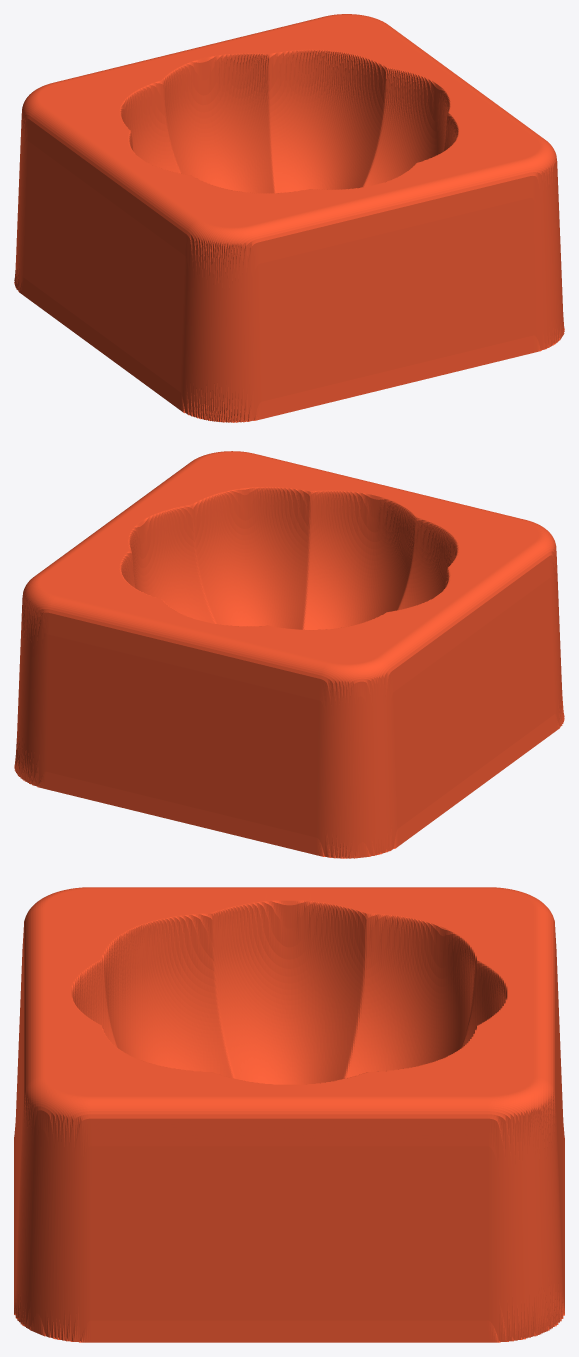
Rendered from mold.glb.
3 renders of one model, top to bottom at view 1: azimuth 30°, elevation 25°; view 2: azimuth 150°, elevation 25°; view 3: azimuth 270°, elevation 25°, orthographic. The views are drawn at different scales.
Visible parts, largest first — view 1: geometry_0; view 2: geometry_0; view 3: geometry_0.
Boxes of the visible parts, x1,y1,x2,y2 form: geometry_0: [14, 14, 564, 422]; geometry_0: [14, 451, 564, 858]; geometry_0: [14, 887, 564, 1342].
Size of the model in its own units: 0.065 by 0.0304 by 0.065.
